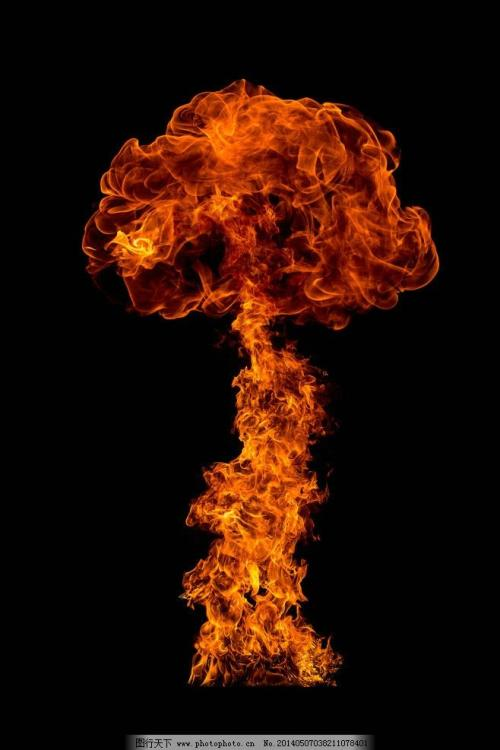fire: (96, 82, 421, 689)
